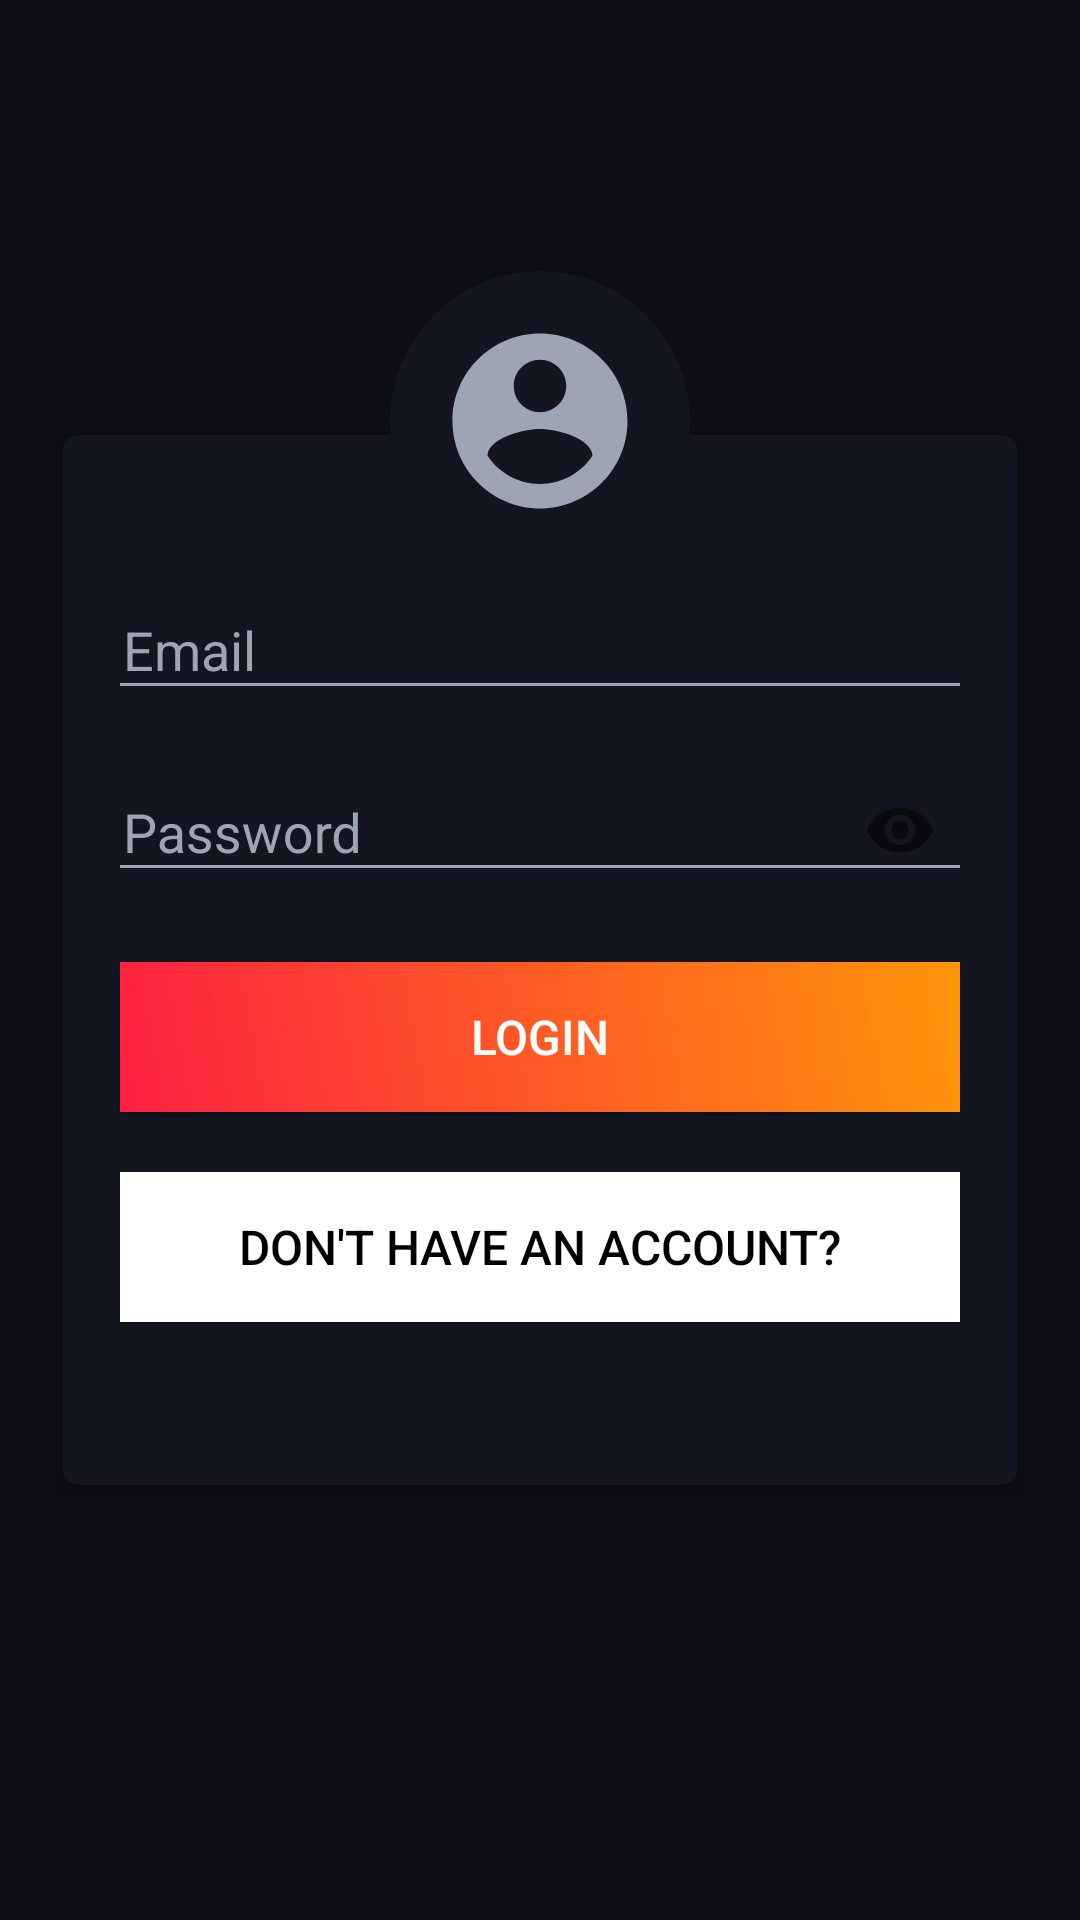

Where to tap for icons on this 1080w x 1920h app screen, as (x,y):
profile circle: (540,421)
